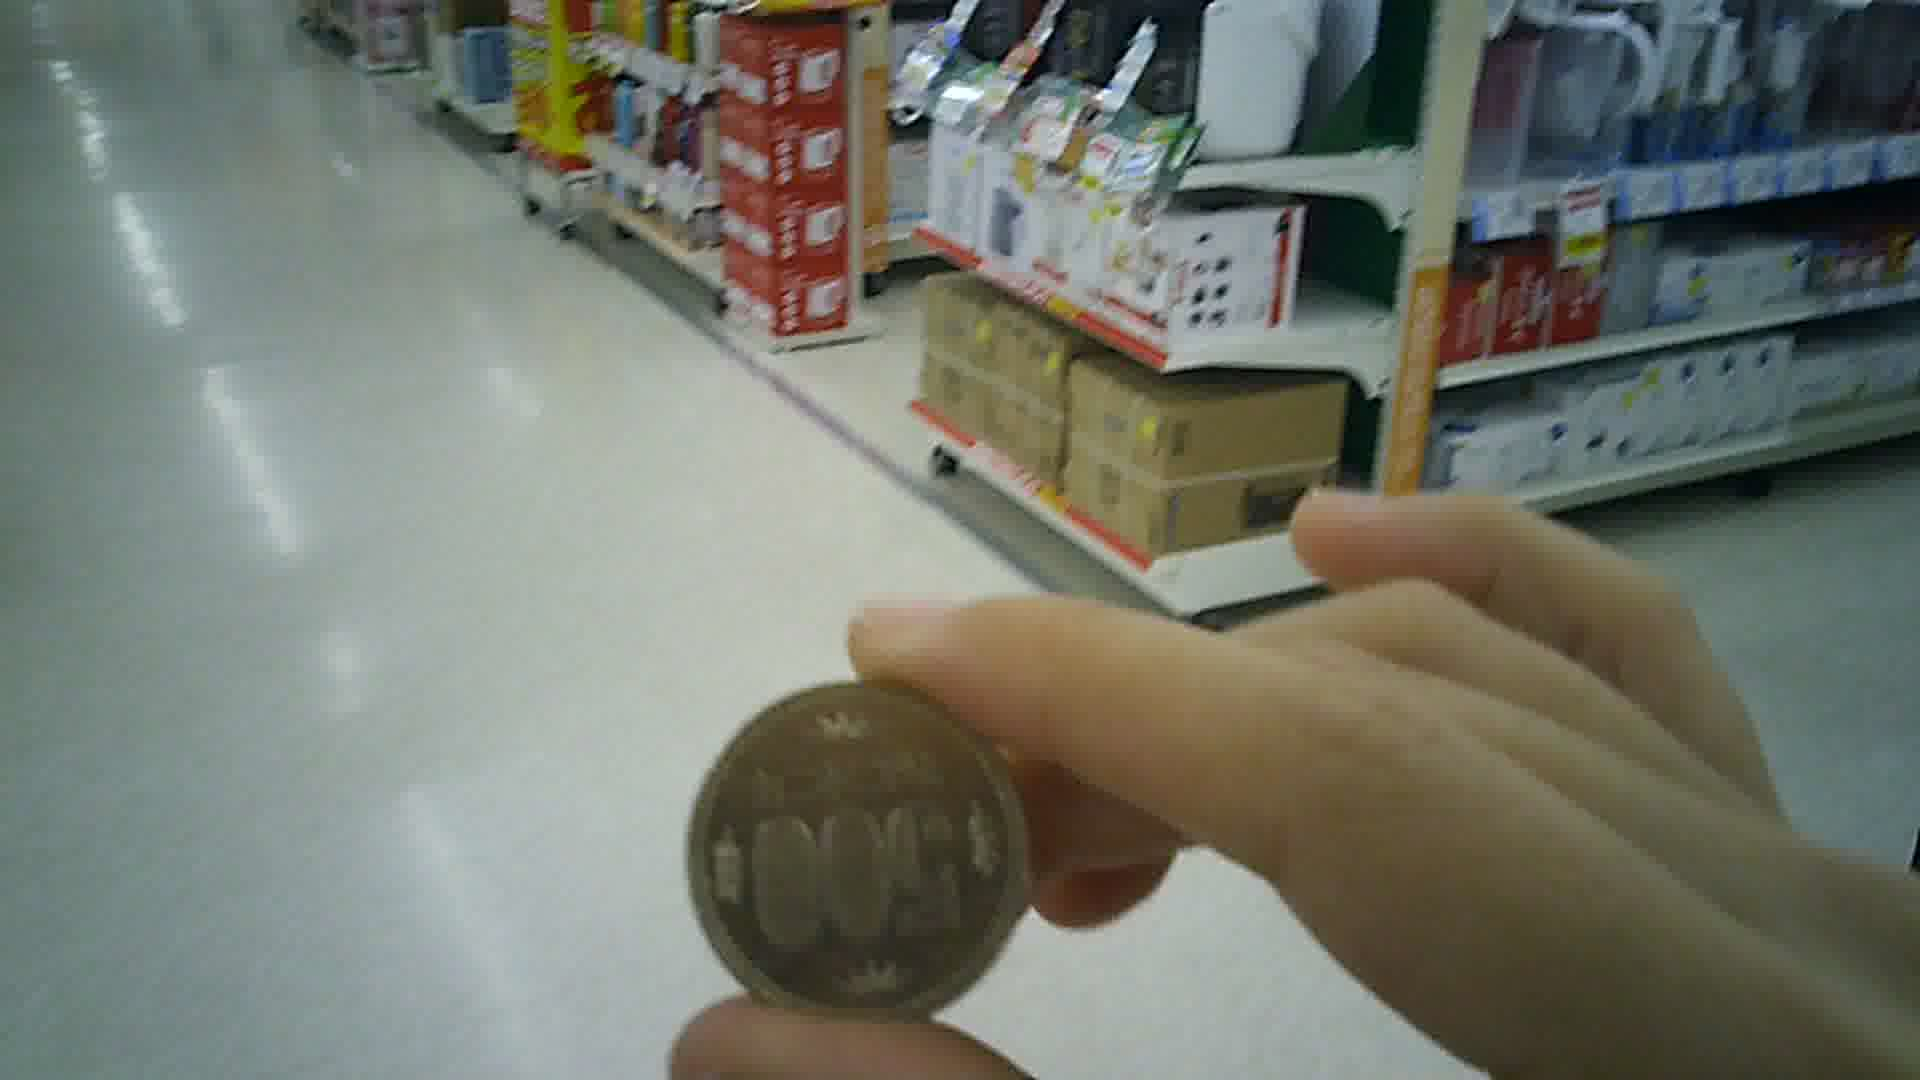500 Yen: (673, 688, 1047, 1043)
